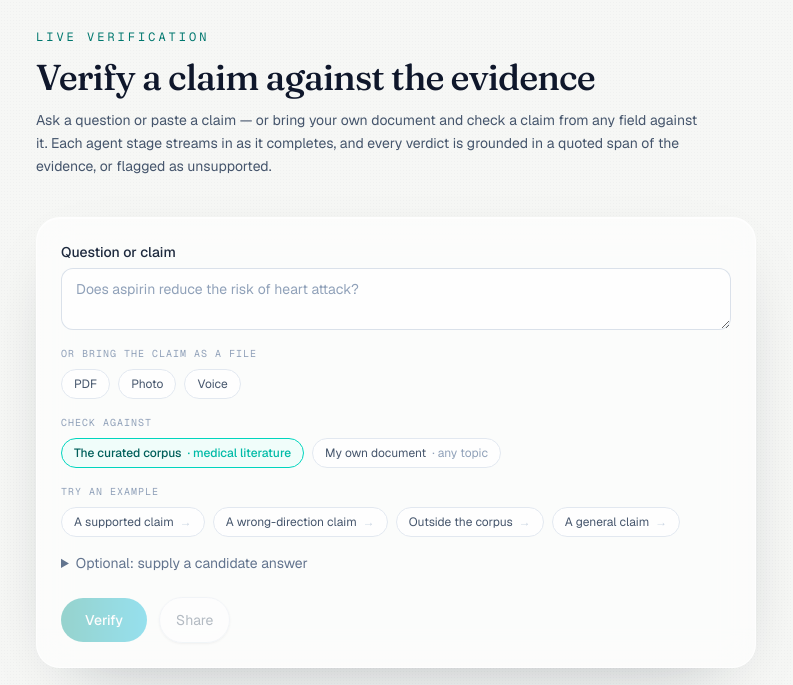
Test case: submits the query and renders the streamed verdict
This screenshot has width=793, height=685.
In the text box labelled "Question or claim": x=396, y=299 [61,268,731,330], type "Does aspirin help the heart?"
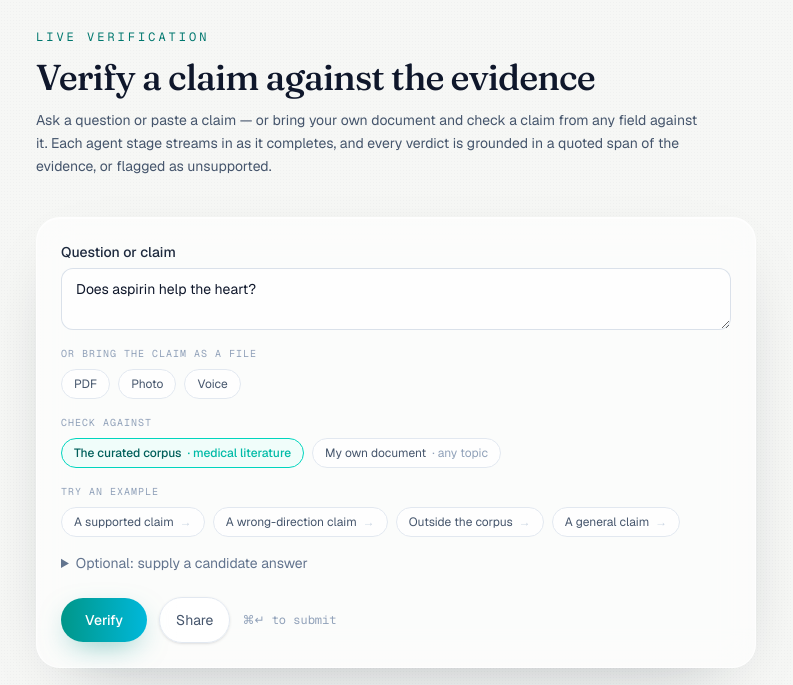
Click the button "Verify": x=104, y=620 [61,598,147,642]
(page scrolled)
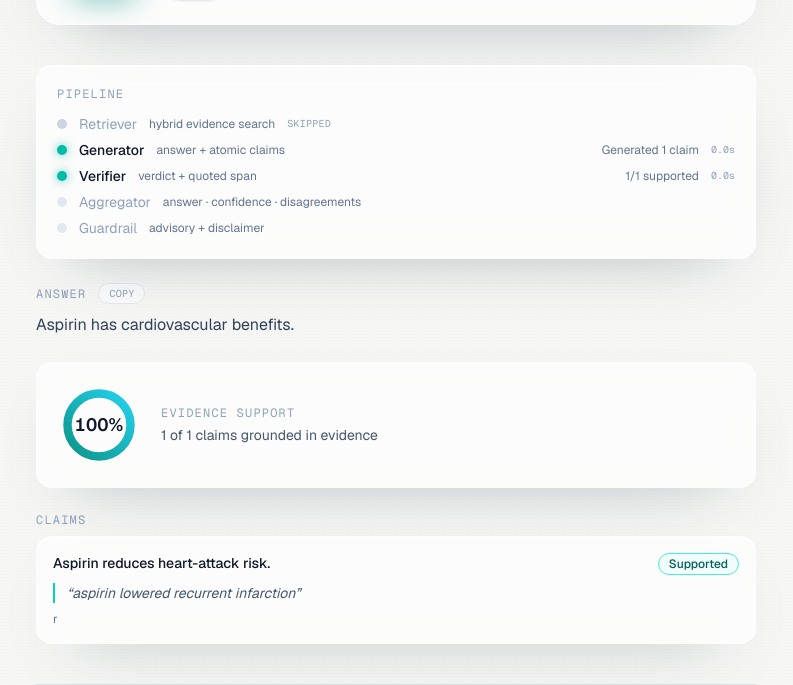
Now the text "Supported" is shown, box [658,553,739,575]
Now the text "“aspirin lowered recurrent infarction”" is shown, box [53,583,739,603]
Now the text "Aspirin has cardiovascular benefits." is shown, box [36,314,294,335]
